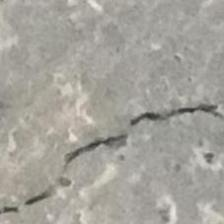Crack: (0, 100, 224, 219)
